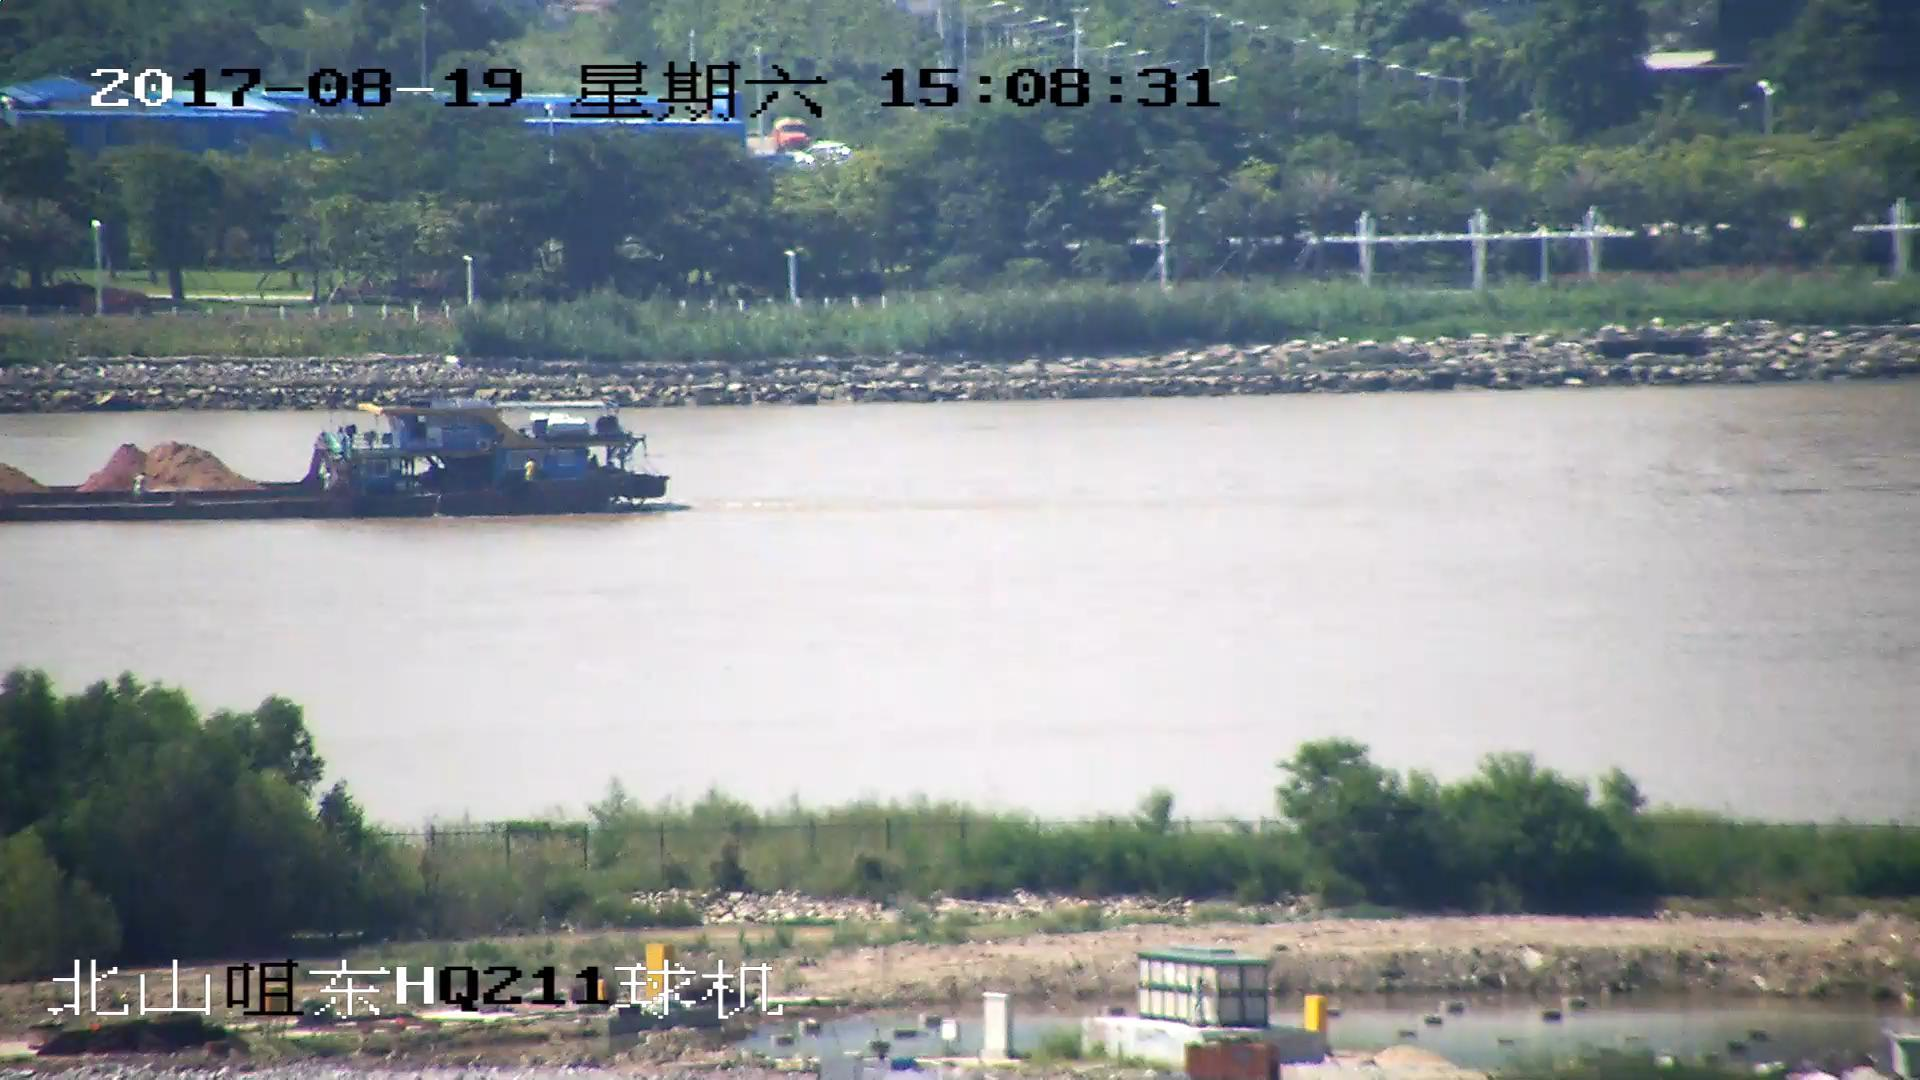Ship: (3, 388, 673, 524)
